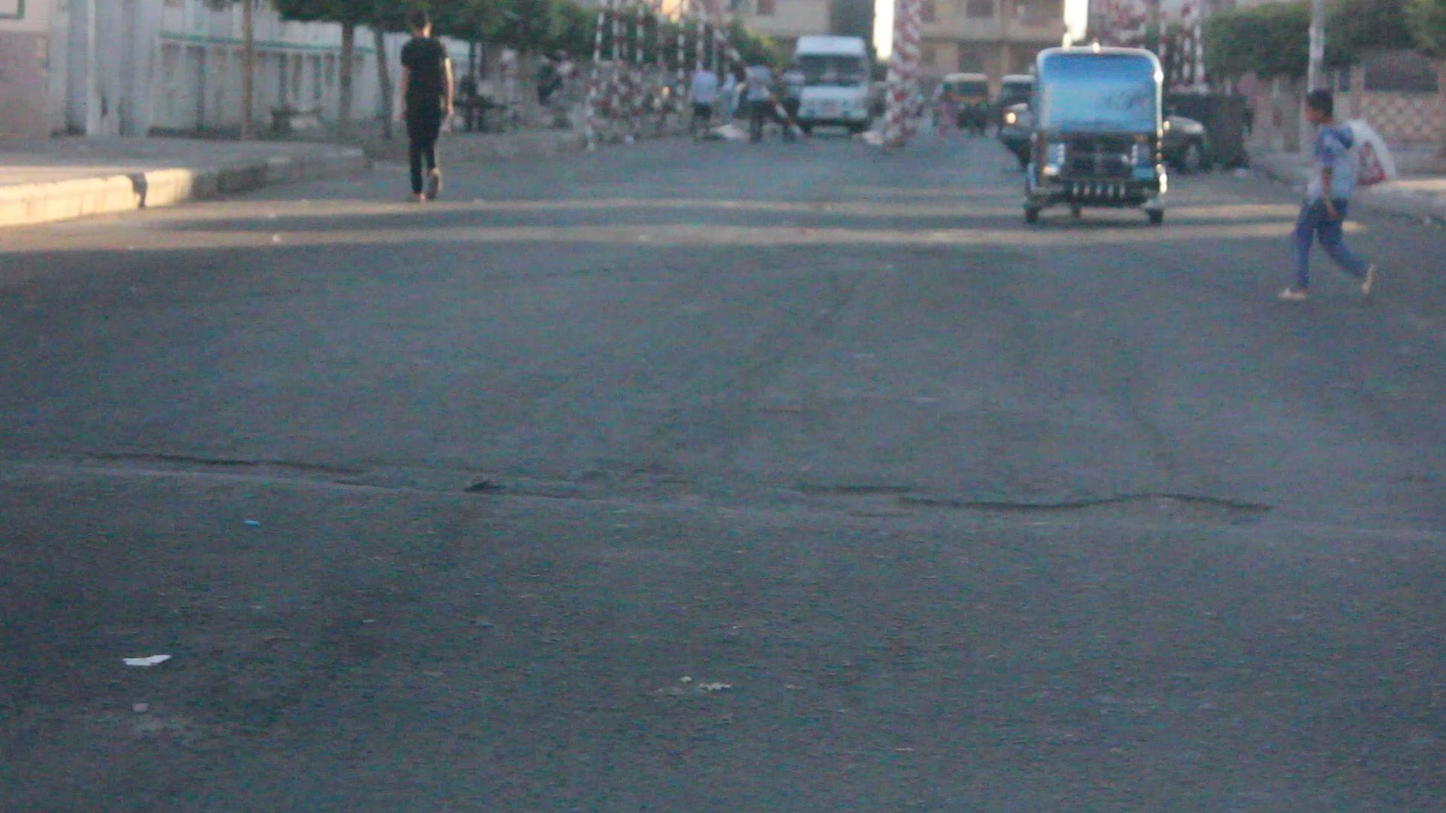Pothole: (800, 444, 1277, 561), (92, 431, 431, 499)
